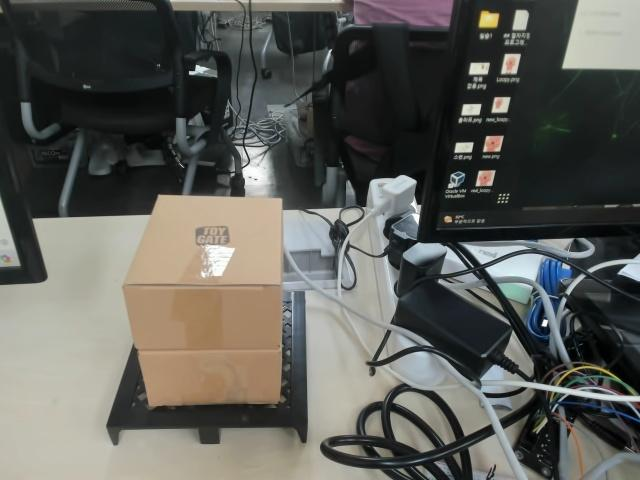box: (103, 193, 307, 444)
